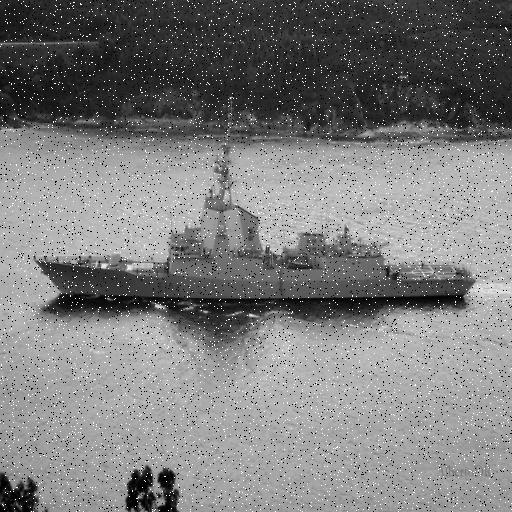Fragata: (34, 98, 477, 307)
